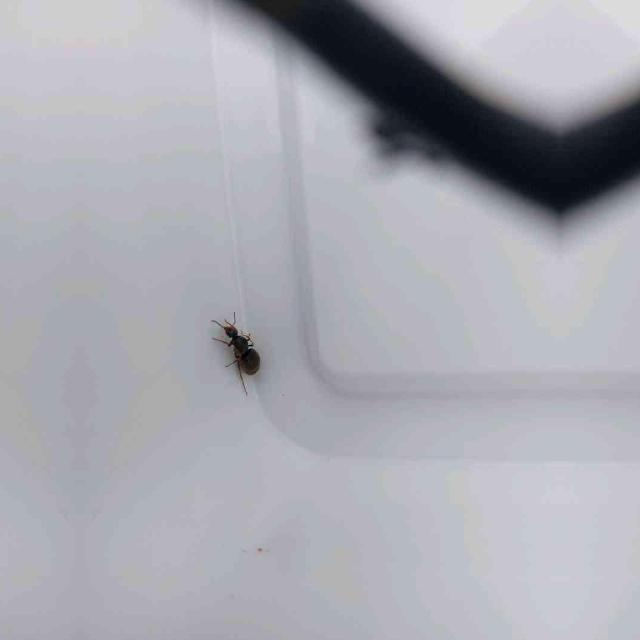Lasius: (212, 312, 266, 378)
